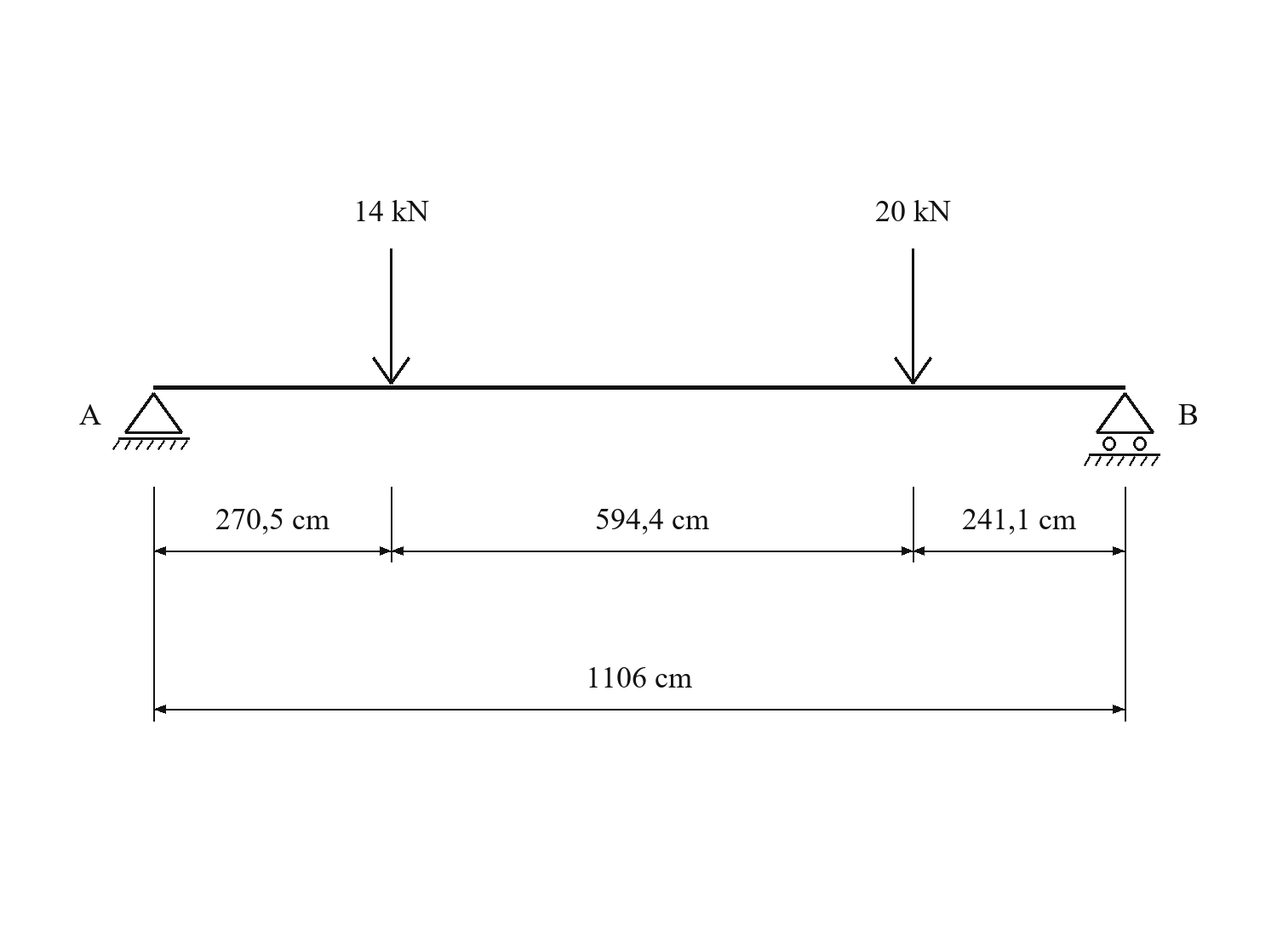pin_support: (112, 392, 190, 450)
point_load: (372, 248, 410, 385), (894, 248, 932, 385)
roller_support: (1084, 392, 1160, 466)
